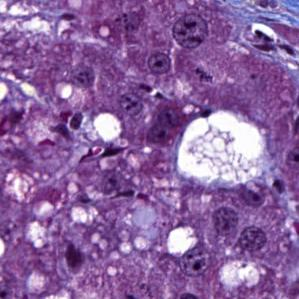ballooning: (174, 107, 269, 195)
